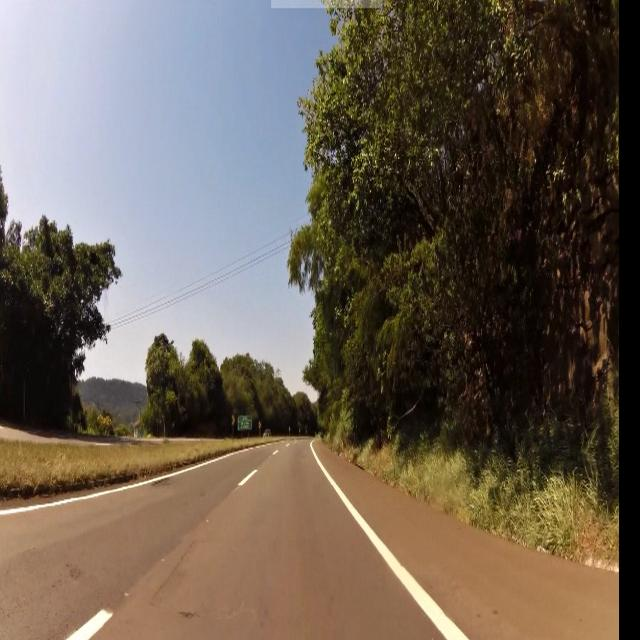Del: (231, 416, 235, 426)
I-4: (237, 416, 253, 431)
